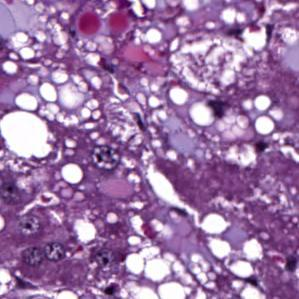ballooning: (167, 28, 255, 96)
